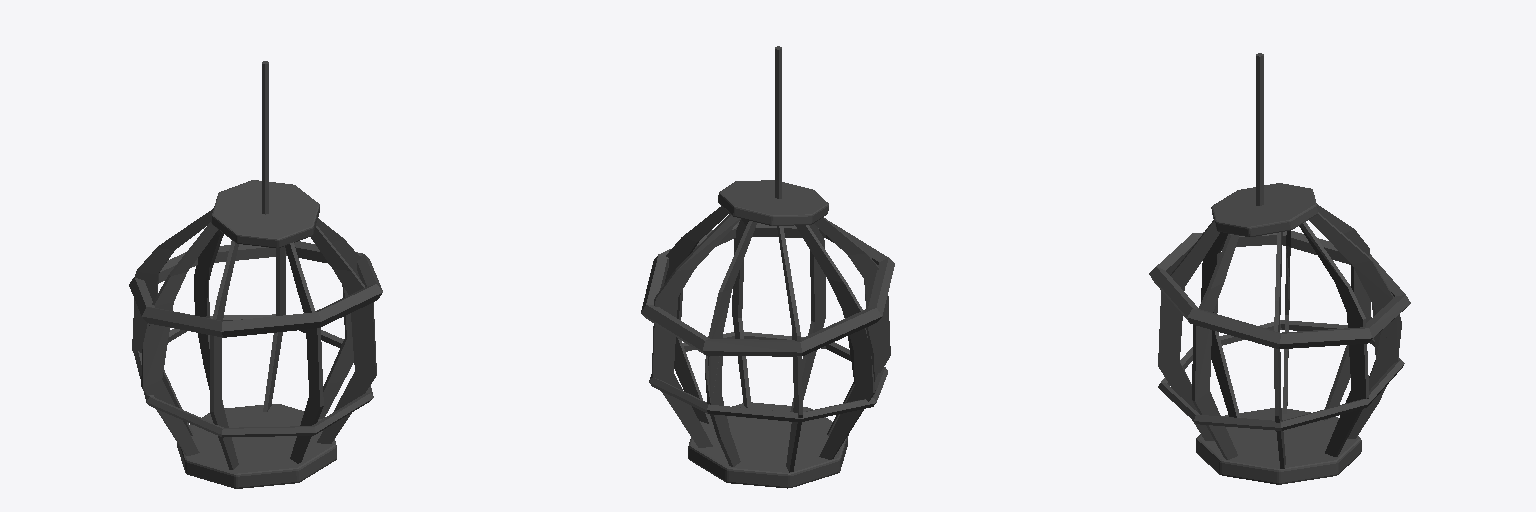
File: carcel.obj
The picture shows the model from 3 angles: view 1: azimuth 30°, elevation 25°; view 2: azimuth 150°, elevation 25°; view 3: azimuth 270°, elevation 25°; orthographic projection.
Visible parts, largest first — view 1: Cylinder002; view 2: Cylinder002; view 3: Cylinder002.
Boxes of the visible parts, x1,y1,x2,y2 form: Cylinder002: [129, 61, 382, 488]; Cylinder002: [641, 46, 894, 488]; Cylinder002: [1149, 53, 1410, 484].
Bounding box in the file's own units: 1.62 × 2.71 × 1.61.